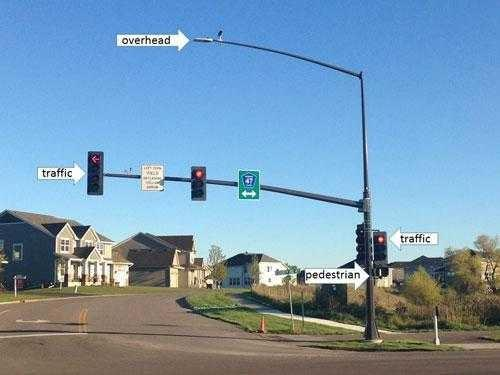red: (87, 151, 104, 198), (190, 163, 207, 203), (372, 232, 387, 268), (87, 153, 102, 167)
